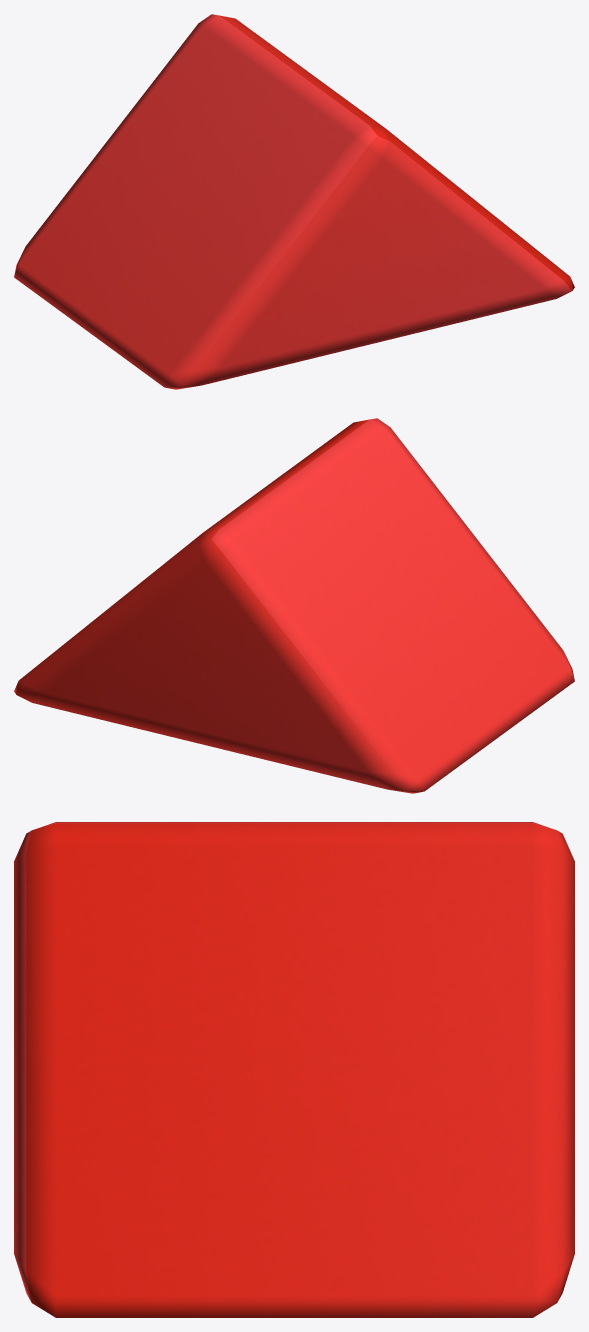
File: BlockPitchedRoofRed.fbx
3 views of the same model, one above another, from view 1: azimuth 30°, elevation 25°; view 2: azimuth 150°, elevation 25°; view 3: azimuth 270°, elevation 25° (orthographic). The views are drawn at different scales.
Visible parts, largest first — view 1: Cube.015; view 2: Cube.015; view 3: Cube.015.
Boxes of the visible parts, left/top/right/bottom form: Cube.015: left=14, top=14, right=574, bottom=389; Cube.015: left=14, top=418, right=574, bottom=793; Cube.015: left=14, top=822, right=574, bottom=1317.
Size of the model in its own units: 268 by 135 by 200.
